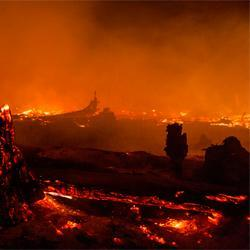fire: (43, 192, 69, 202), (168, 219, 188, 229)
